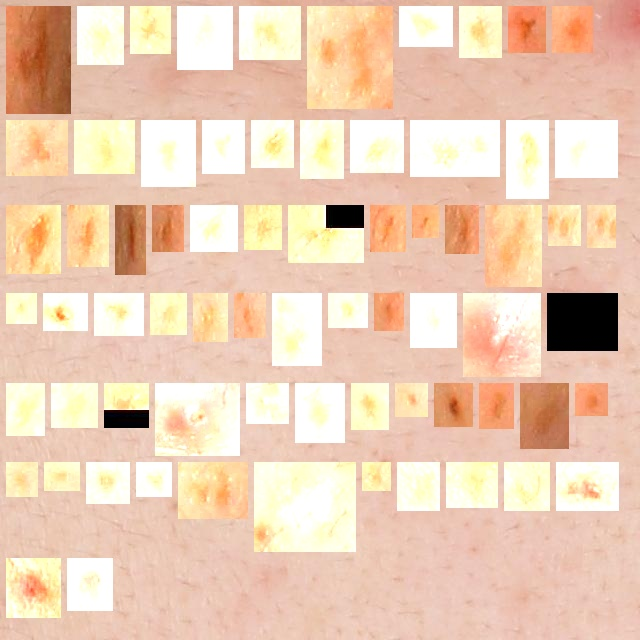hypertrophic_scar: (262, 470, 348, 544)
melasma: (315, 14, 385, 101), (14, 14, 63, 106), (418, 128, 492, 169), (493, 213, 534, 279), (296, 213, 356, 255), (555, 301, 610, 343), (186, 470, 240, 511), (14, 213, 53, 266), (149, 128, 188, 179), (563, 128, 610, 170), (280, 301, 314, 358), (185, 14, 225, 62), (14, 128, 60, 168), (247, 14, 293, 52), (82, 128, 127, 166), (514, 128, 541, 191), (528, 391, 561, 441), (303, 391, 337, 435), (358, 128, 396, 165), (85, 14, 116, 57), (418, 301, 449, 340), (308, 128, 336, 171), (75, 213, 101, 259), (454, 470, 490, 500), (210, 128, 237, 166), (198, 213, 230, 244), (512, 470, 542, 503), (467, 14, 494, 50), (407, 14, 445, 39), (102, 301, 136, 328), (59, 391, 90, 420), (405, 470, 432, 503), (259, 128, 286, 160), (14, 391, 37, 428), (112, 391, 141, 420), (123, 213, 138, 267), (138, 14, 163, 46), (560, 14, 585, 45), (94, 470, 122, 496), (516, 14, 538, 45), (359, 391, 381, 422), (252, 213, 274, 242), (51, 301, 80, 323), (201, 301, 220, 334), (378, 213, 398, 244), (453, 213, 471, 246), (487, 391, 506, 421), (158, 301, 179, 327), (160, 213, 176, 244), (242, 301, 258, 330), (336, 301, 360, 320), (556, 213, 573, 238), (144, 470, 164, 489), (595, 213, 608, 240), (382, 301, 396, 323), (403, 391, 420, 409), (14, 470, 30, 489), (583, 391, 600, 408), (52, 470, 72, 483), (14, 301, 29, 316), (420, 213, 431, 230), (370, 470, 383, 483)
nevus: (14, 566, 53, 610), (564, 470, 611, 503), (75, 566, 105, 603), (442, 391, 465, 419)
pustule: (471, 301, 533, 369), (163, 391, 232, 448)
